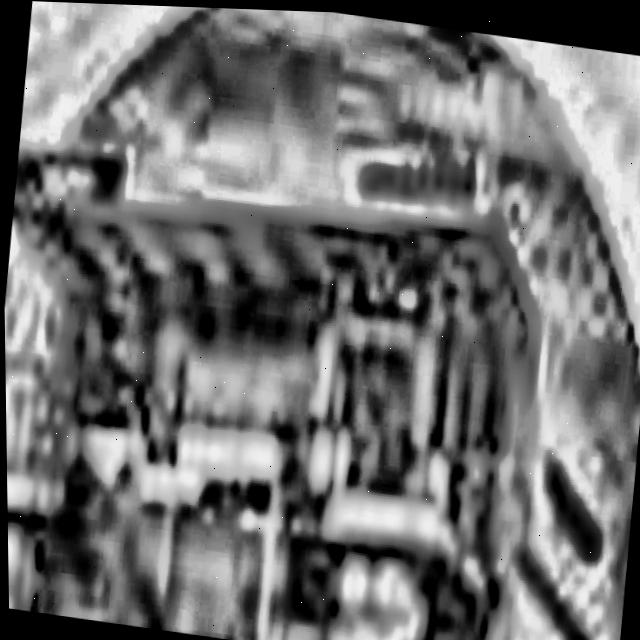dump_truck: (1, 69, 640, 640)
